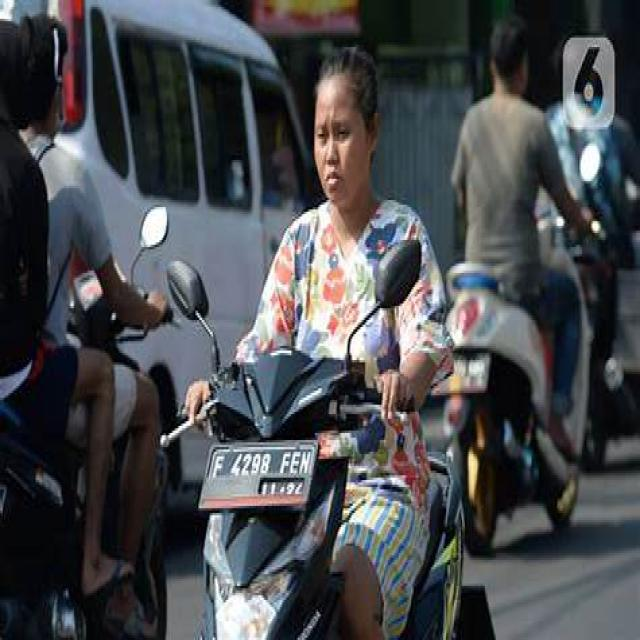Without Helmet: (298, 49, 382, 198)
